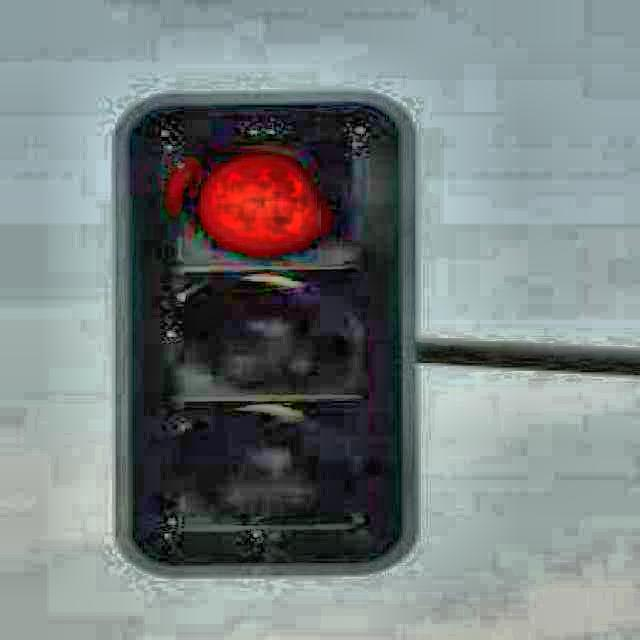red: (130, 106, 403, 563)
